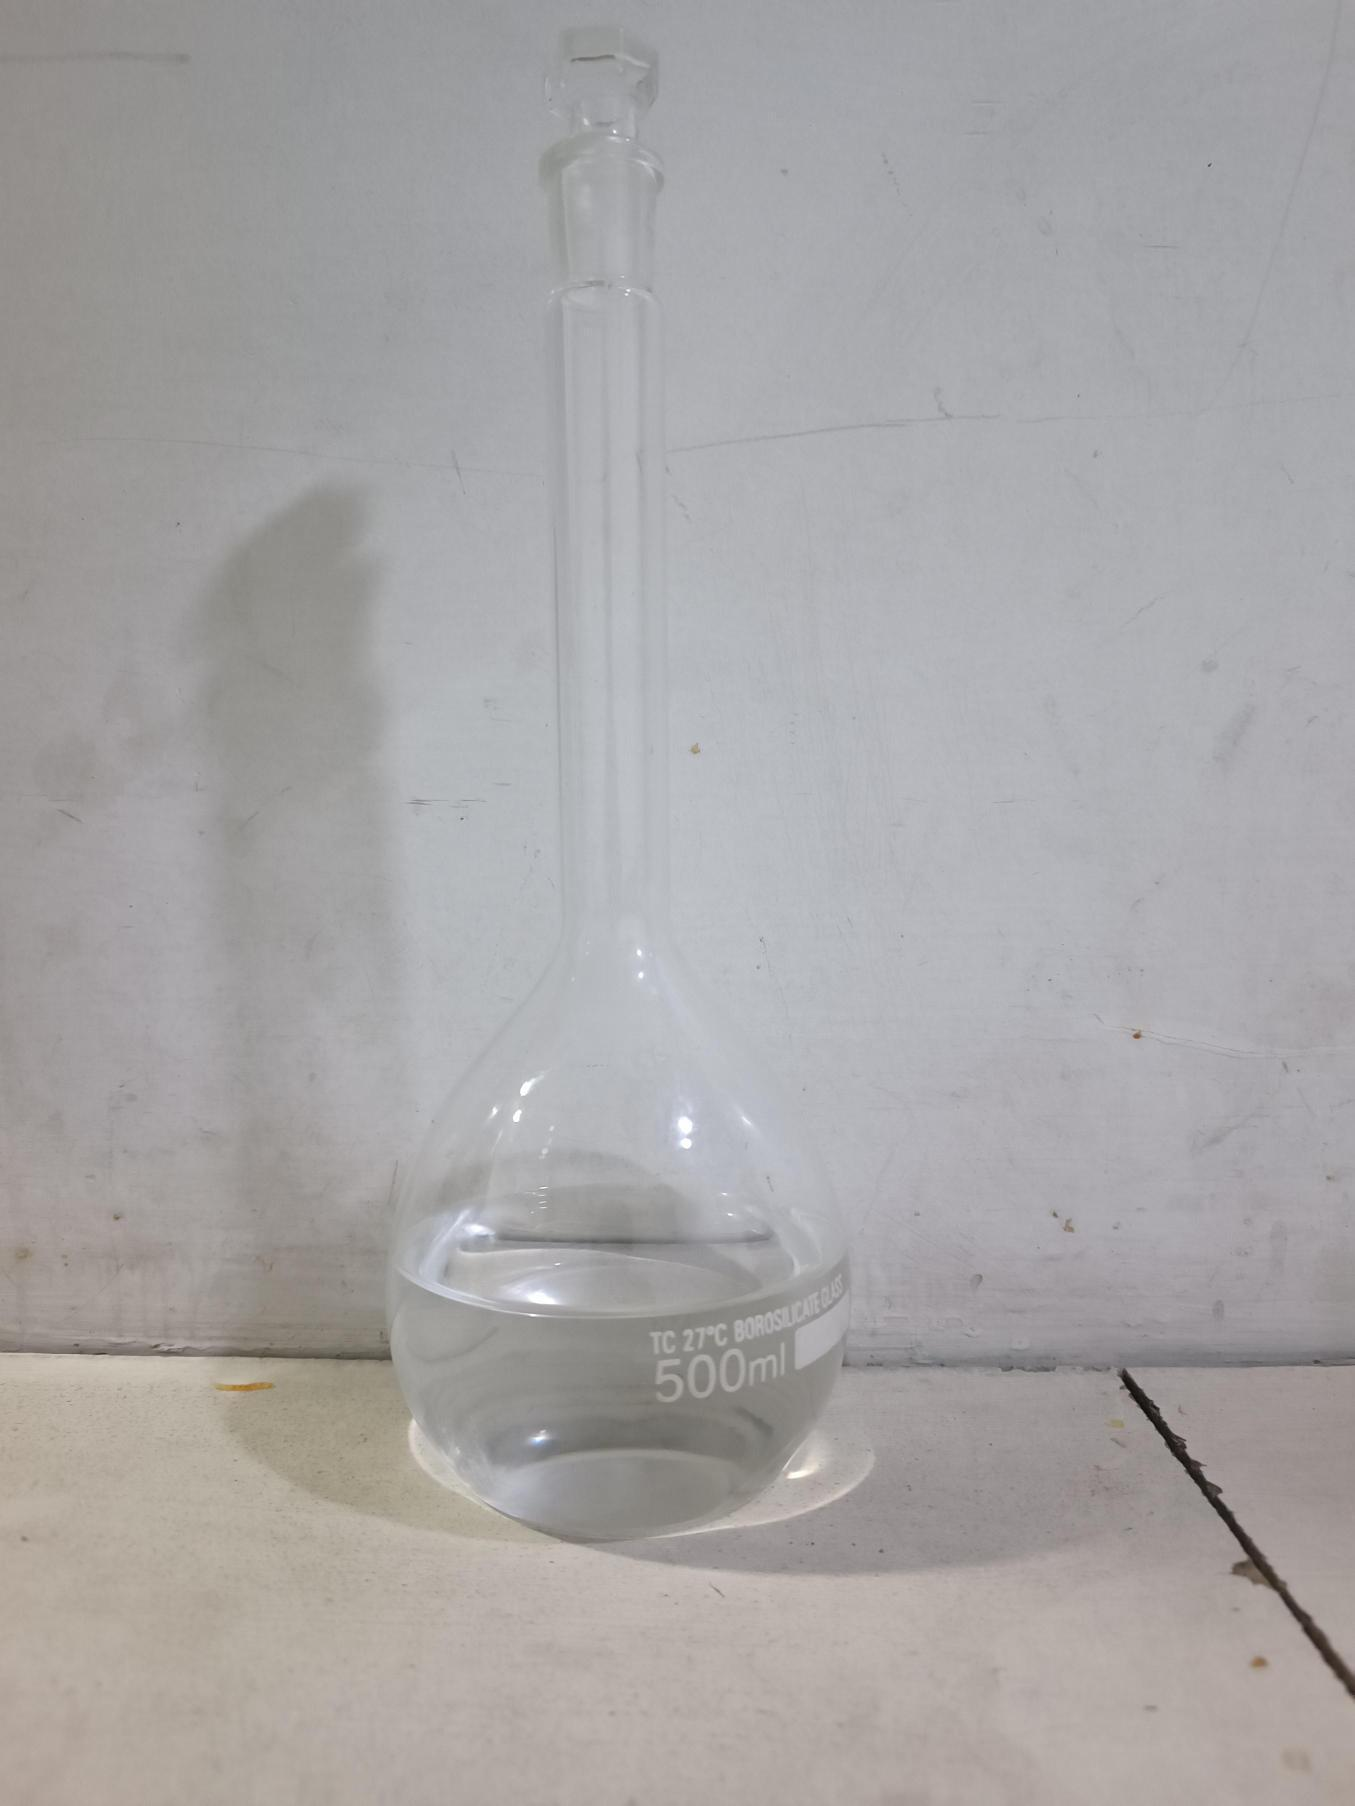Volumetric flask: (340, 46, 885, 1553)
